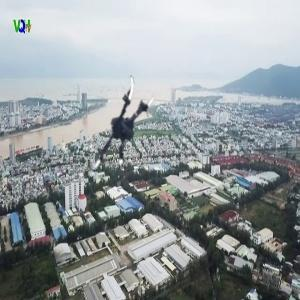drone: (67, 73, 166, 172)
